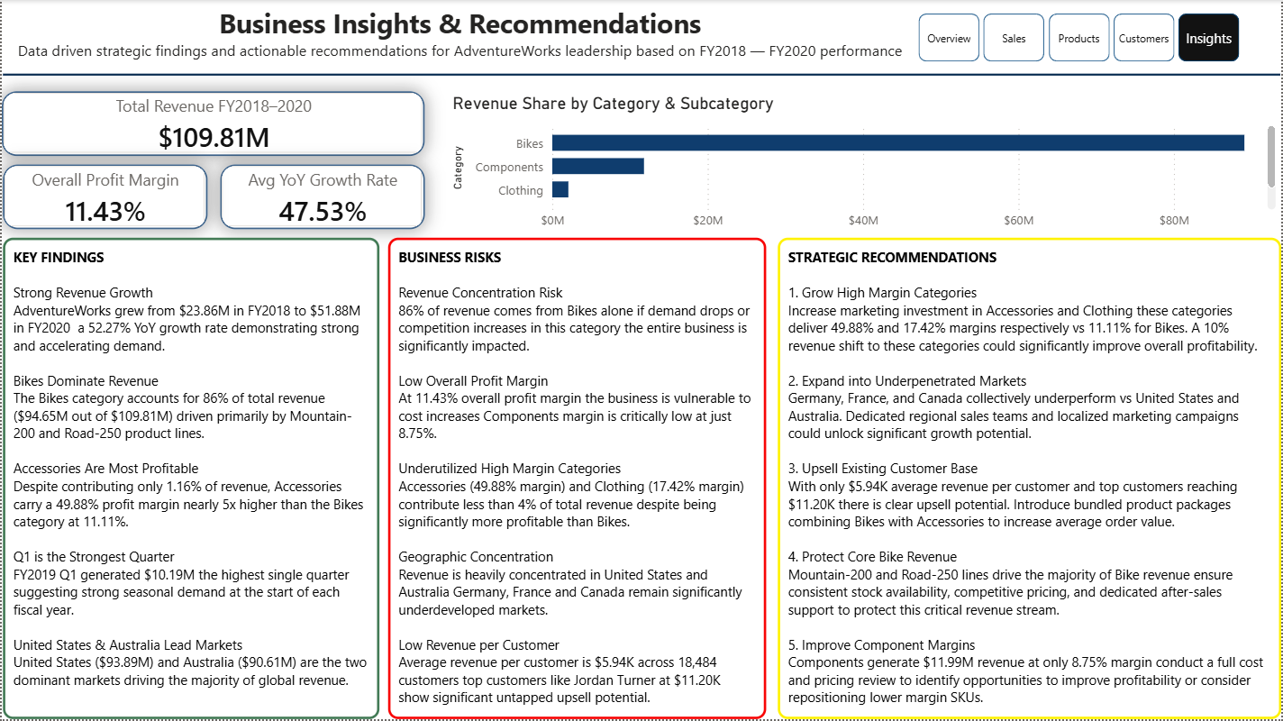

The dashboard page shown, as its layout file describes it:
{"tool":"powerbi","page":{"name":"Insights","canvas":[1280,720],"ordinal":4},"visuals":[{"type":"cardVisual","fields":{"Data":["_Measures.Total Revenue"]},"box":[0,91.8,423,64.5],"z":0},{"type":"cardVisual","fields":{"Data":["_Measures.Avg YoY Growth %"]},"box":[218.3,165,204.7,64.5],"z":1000},{"type":"clusteredBarChart","title":"Revenue Share by Category & Subcategory","fields":{"Y":["_Measures.Total Revenue"],"Category":["Product.Category"]},"box":[446.6,93,833.7,145.1],"z":2000},{"type":"textbox","box":[0,0,917.1,74.6],"z":3000},{"type":"shape","box":[1.3,59.1,1278.7,32.1],"z":4000},{"type":"cardVisual","fields":{"Data":["_Measures.Profit Margin %"]},"box":[1.2,165,204.7,64.5],"z":5000},{"type":"textbox","box":[1.2,238.2,377.1,481.3],"z":6000},{"type":"bookmarkNavigator","box":[917.1,13.5,325.3,48.9],"z":7000},{"type":"textbox","box":[387.1,238.2,378.4,481.3],"z":8000},{"type":"textbox","box":[776.6,238.2,503.7,481.3],"z":9000}]}

Visuals, with their boxes in screenshot pixels (x1, y1, x2, y2), scaled from the page's 1280x720 canvas onto the 1283x721 screenshot:
cardVisual - _Measures.Total Revenue: [0, 92, 424, 157]
cardVisual - _Measures.Avg YoY Growth %: [219, 165, 424, 230]
"Revenue Share by Category & Subcategory" clusteredBarChart: [448, 93, 1282, 238]
textbox: [0, 0, 919, 75]
shape: [1, 59, 1282, 91]
cardVisual - _Measures.Profit Margin %: [1, 165, 206, 230]
textbox: [1, 239, 379, 720]
bookmarkNavigator: [919, 14, 1245, 62]
textbox: [388, 239, 767, 720]
textbox: [778, 239, 1282, 720]
